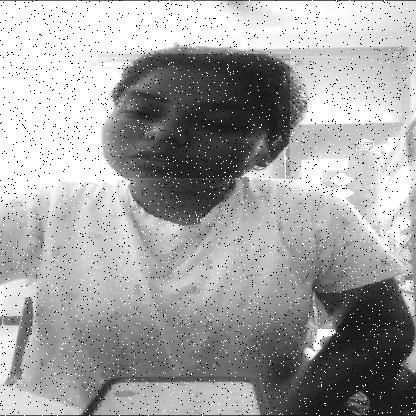Distracted: (98, 54, 290, 178)
